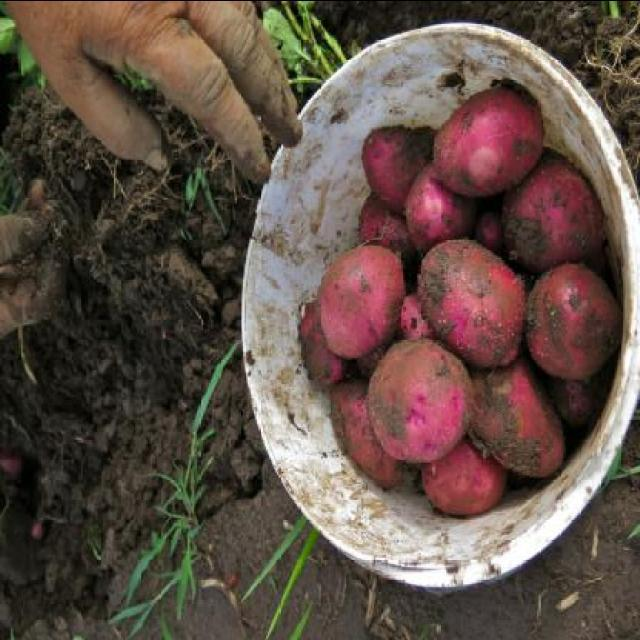Potato: (292, 79, 624, 521), (439, 83, 543, 200), (314, 242, 408, 360)
